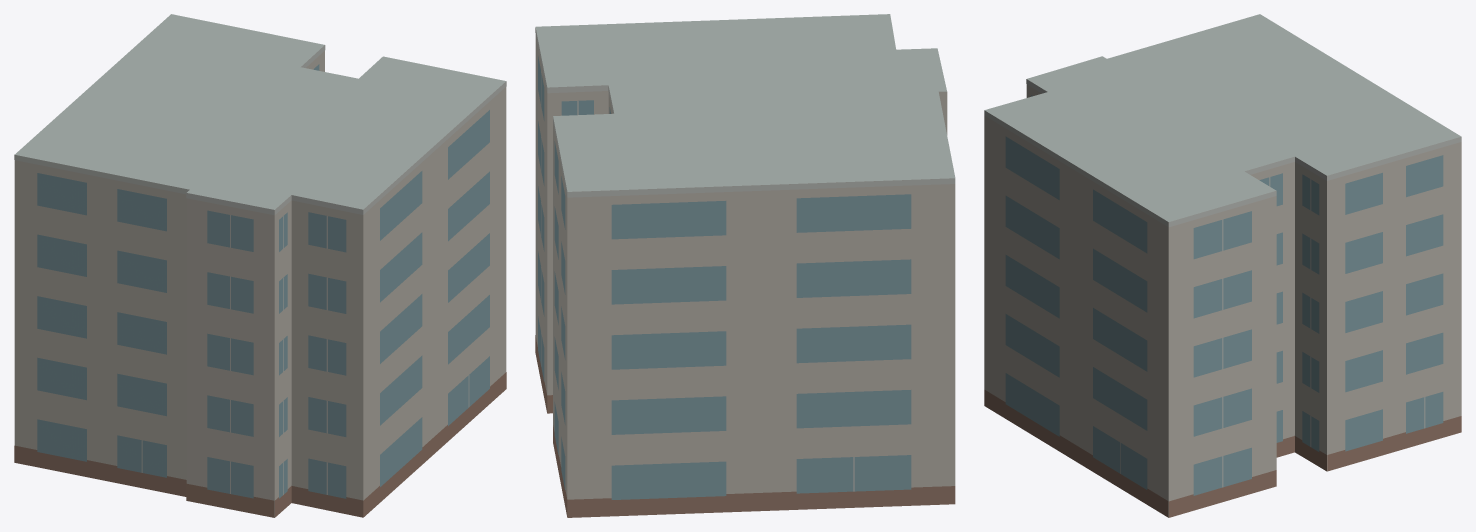
The model's file is survey-upis-32982022.glb.
The picture shows the model from 3 angles, left to right: view 1: azimuth 30°, elevation 25°; view 2: azimuth 150°, elevation 25°; view 3: azimuth 270°, elevation 25°; orthographic projection. The views are drawn at different scales.
Visible parts, largest first — view 1: survey-upis-32982022.tmp; view 2: survey-upis-32982022.tmp; view 3: survey-upis-32982022.tmp.
Boxes of the visible parts, bbox=[...] form: survey-upis-32982022.tmp: bbox=[14, 14, 506, 517]; survey-upis-32982022.tmp: bbox=[535, 14, 955, 517]; survey-upis-32982022.tmp: bbox=[984, 14, 1461, 517].
Size of the model in its own units: 21 by 13.9 by 20.34.
